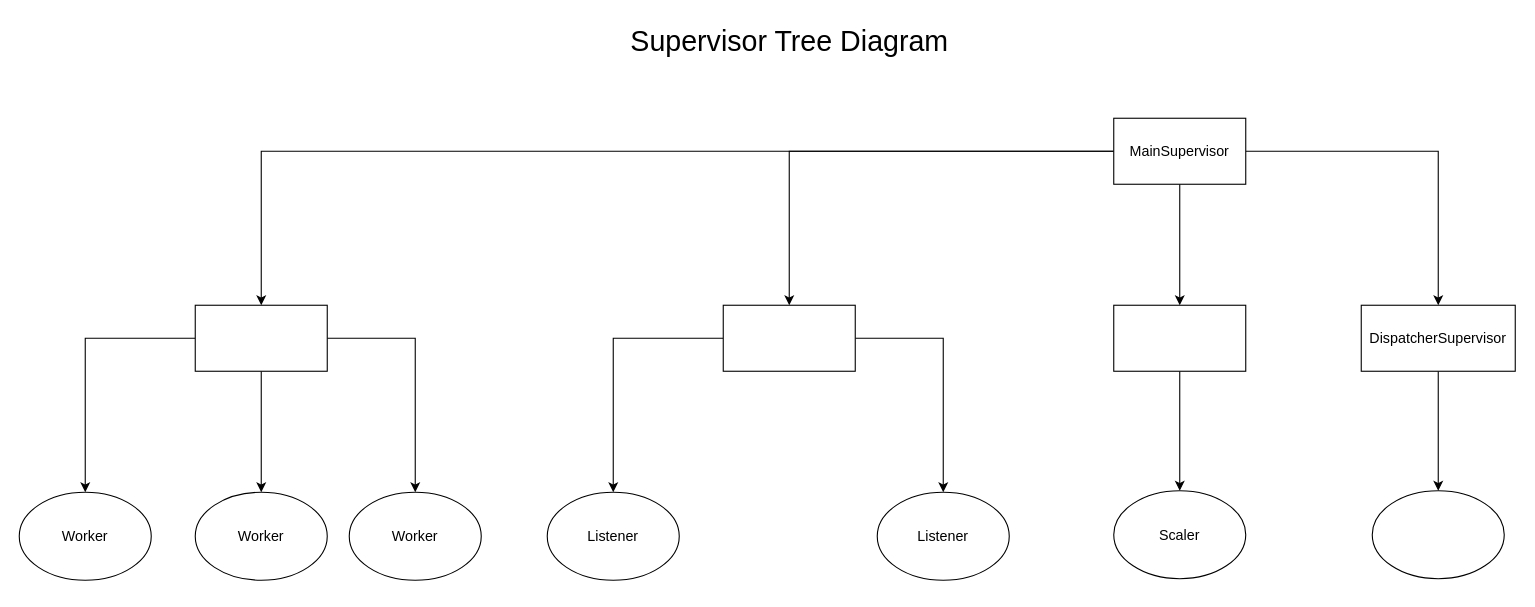
Image size: 1535x607. Some labels were removed from this diagram. The shapes that lost their labels are listed below. From the top down, each one's centre as x and y in pixels, then its label:
At (260,337): "WorkerSupervisor".
At (788,337): "ListenerSupervisor".
At (1179,337): "ScalingSupervisor".
At (1437,534): "Dispatcher".
